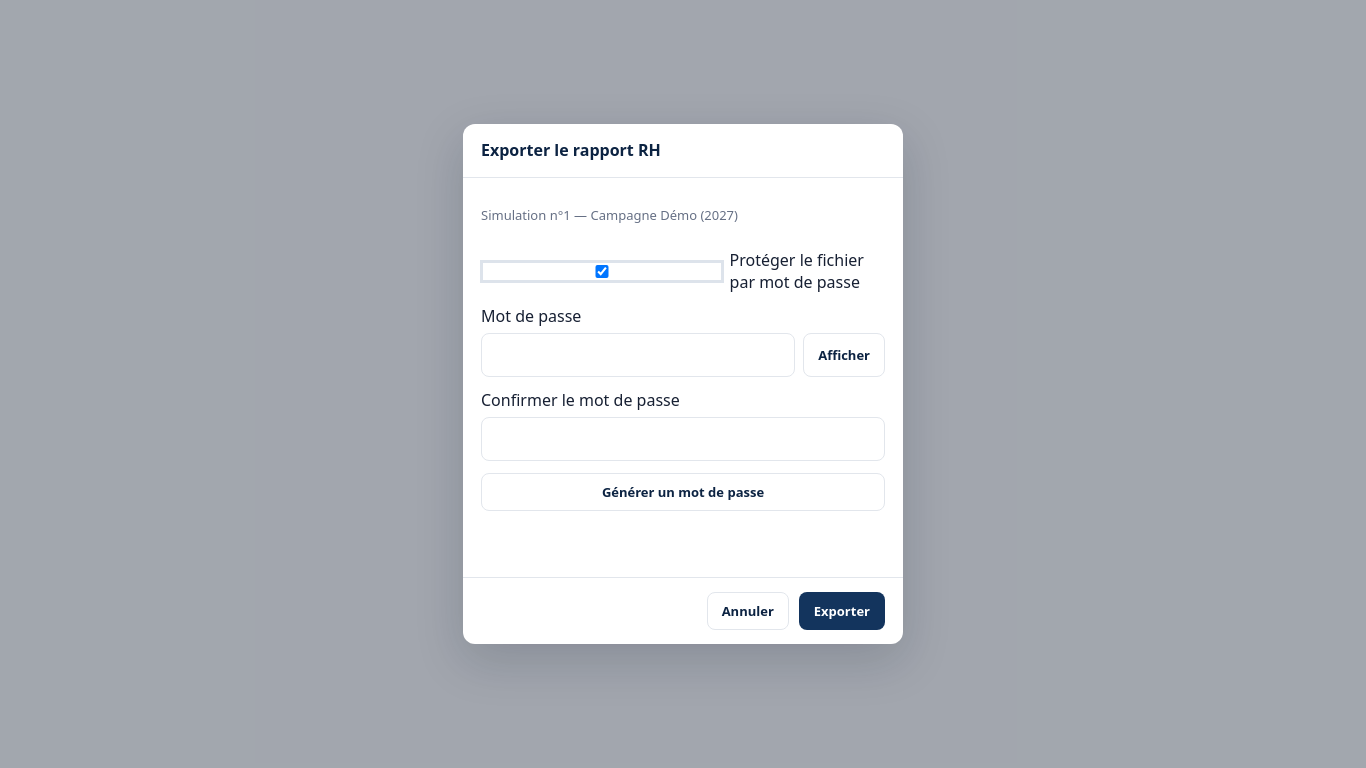
Test case: SimulationExcelExportDialog › génère et remplit le mot de passe
Click the button with test id "simulation-excel-export-generate". click: (683, 492)
box: top-left (481, 473), bottom-right (885, 511)
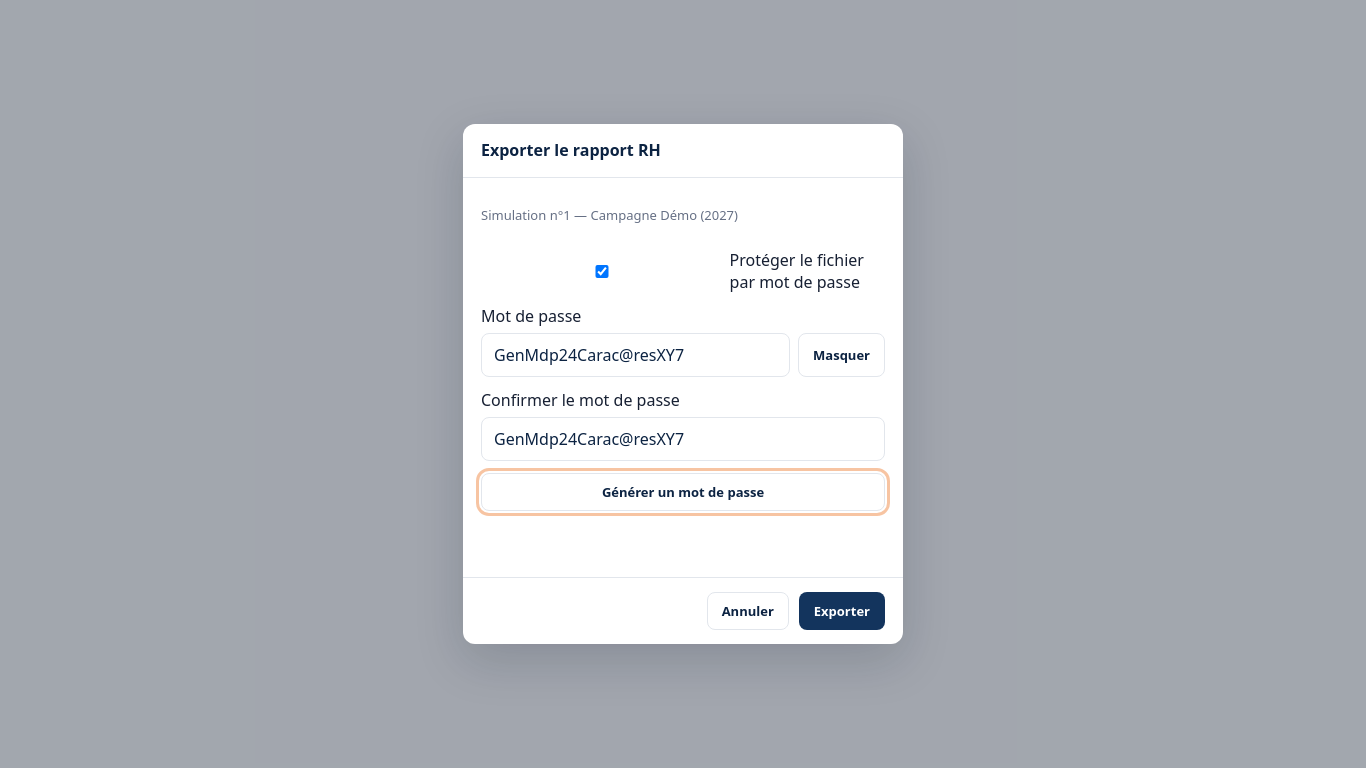
Expected: the field with test id "simulation-excel-export-password" holds "GenMdp24Carac@resXY7", top-left (481, 333), bottom-right (790, 377)
Expected: the field with test id "simulation-excel-export-password-confirm" holds "GenMdp24Carac@resXY7", top-left (481, 417), bottom-right (885, 461)
